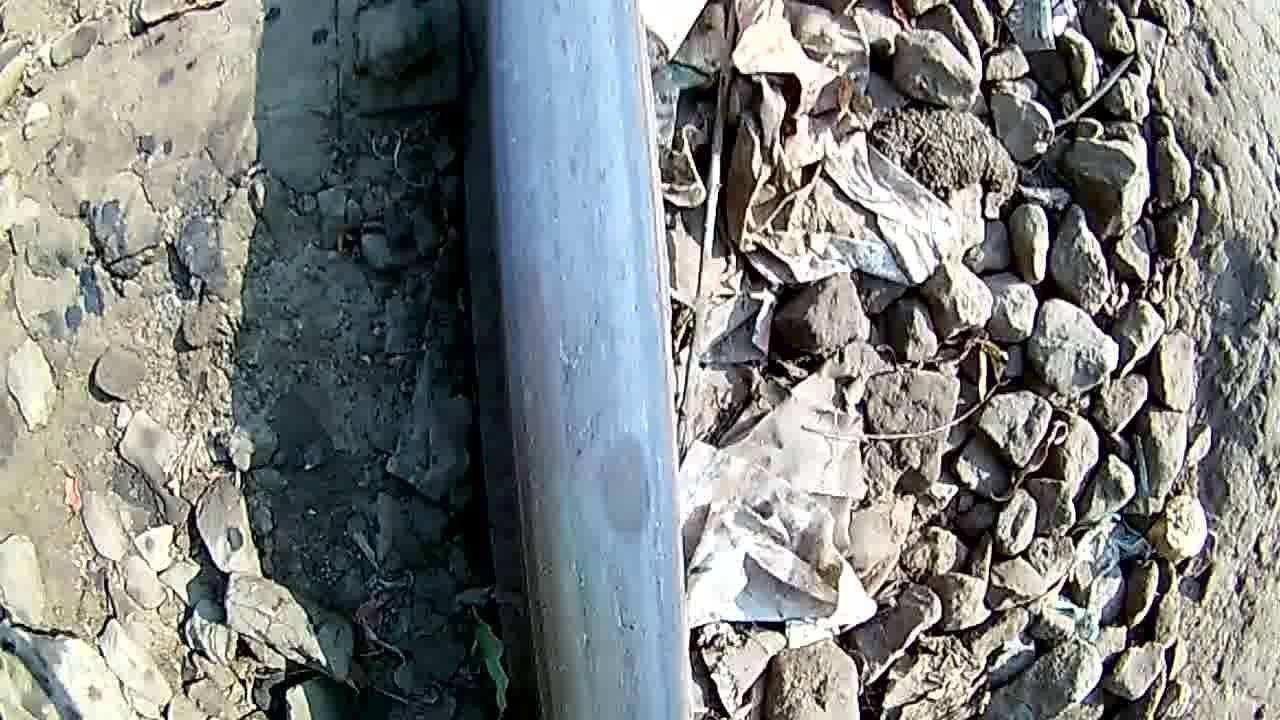crack: (516, 326, 682, 693)
